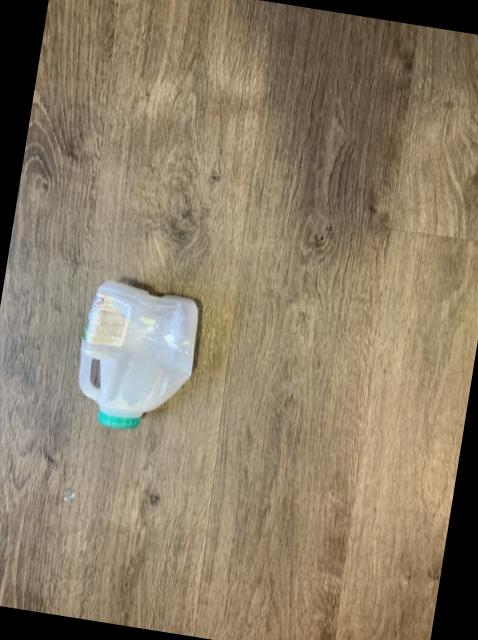plastic: (79, 282, 198, 429)
